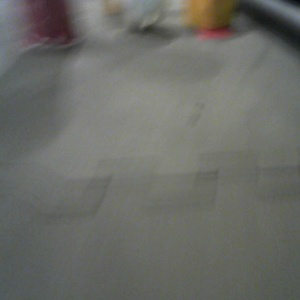middle: (21, 1, 86, 51)
